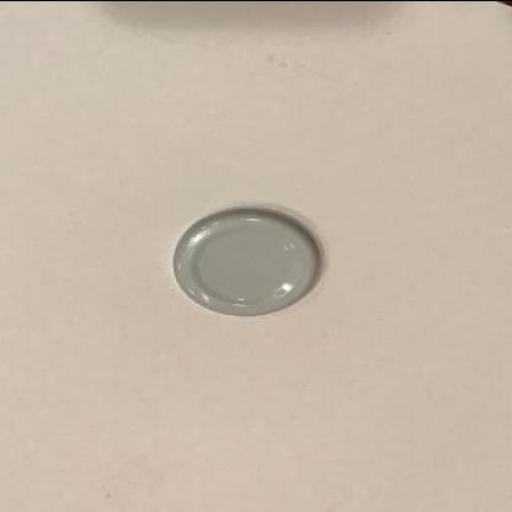metal: (171, 208, 321, 314)
